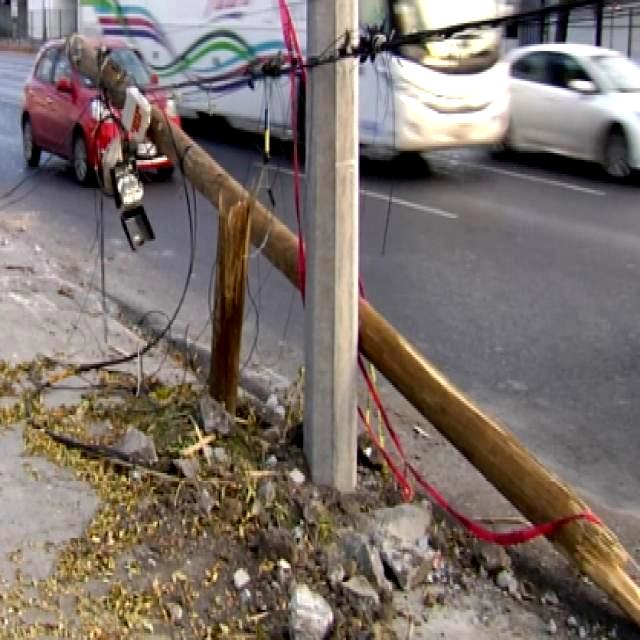Broken Pole: (63, 25, 639, 627), (210, 204, 251, 417)
